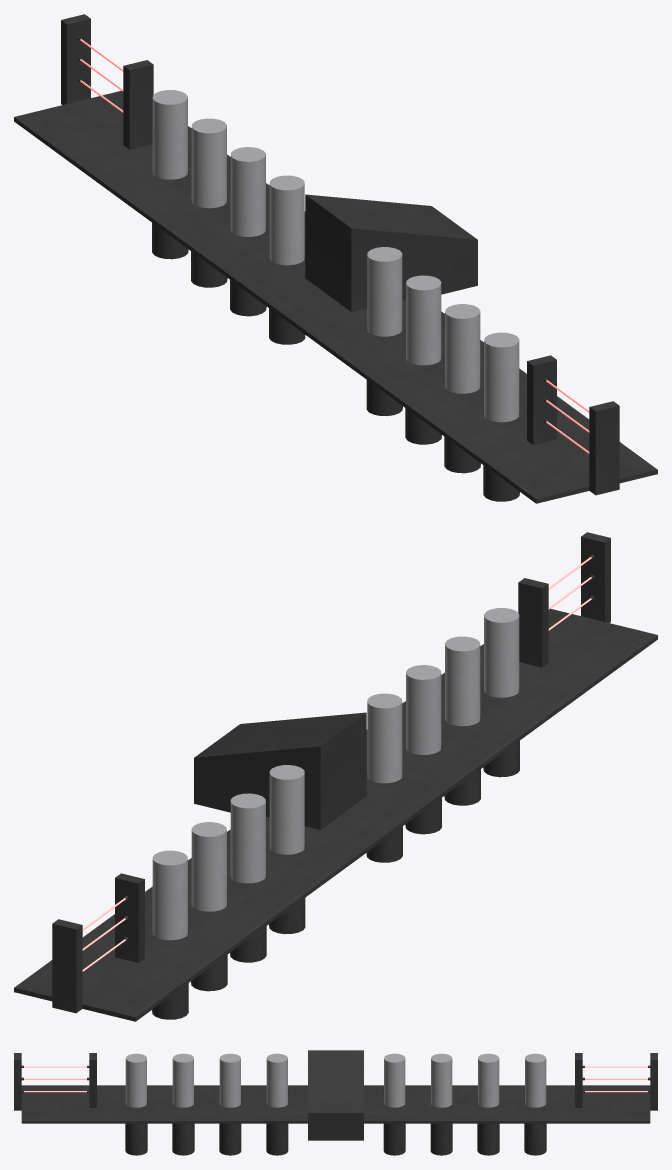
The model's file is EntradaCorp.fbx.
3 views of the same model, one above another, from view 1: azimuth 30°, elevation 25°; view 2: azimuth 150°, elevation 25°; view 3: azimuth 270°, elevation 25° (orthographic). The views are drawn at different scales.
Visible parts, largest first — view 1: Plane.021, Plane.022, Cube.106; view 2: Plane.021, Plane.022, Cube.106; view 3: Plane.021, Plane.022, Cube.106.
Part boxes in pixels (x1,y1,x2,y2): Plane.021: (14,90,657,503); Plane.022: (152,90,519,422); Cube.106: (61,14,619,495); Plane.021: (14,608,657,1021); Plane.022: (152,608,519,940); Cube.106: (52,532,610,1013); Plane.021: (21,1085,650,1155); Plane.022: (125,1053,546,1107); Cube.106: (14,1050,657,1140).
Bounding box in the file's own units: 449 × 389 × 2312.
Materials: 3 (2 with a texture image).
